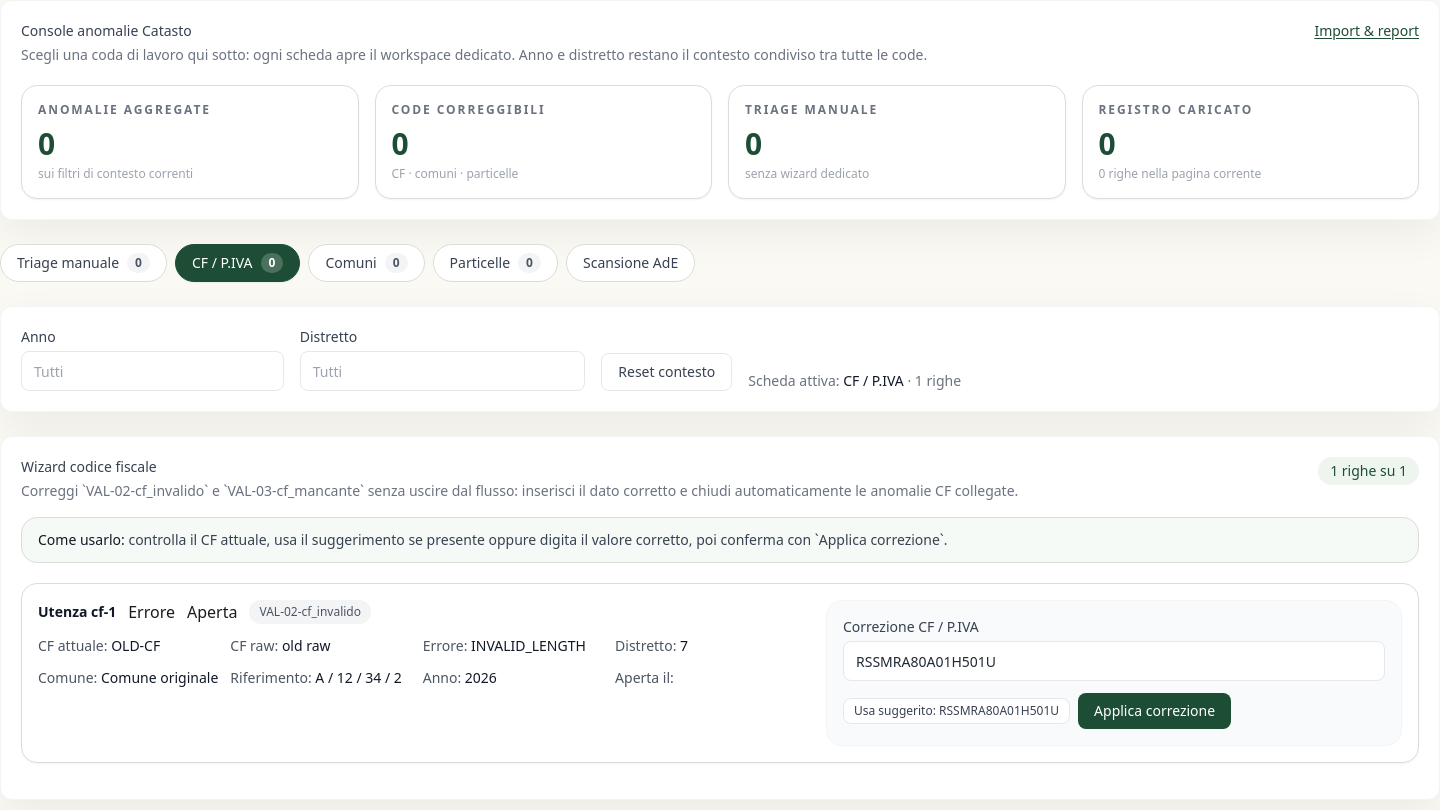
Scenario: R17 original Catasto CF wizard public transitions › releases a failed apply {}, preserves its draft and allows a retry
Expected: the text "Utenza cf-1" is shown, [38, 602, 116, 622]
Expected: the button "Reset contesto" is enabled, [601, 353, 732, 391]
Replace the text in the field labelled "Correzione CF / P.IVA" with "retry me" at (1114, 661), box [843, 641, 1385, 681]
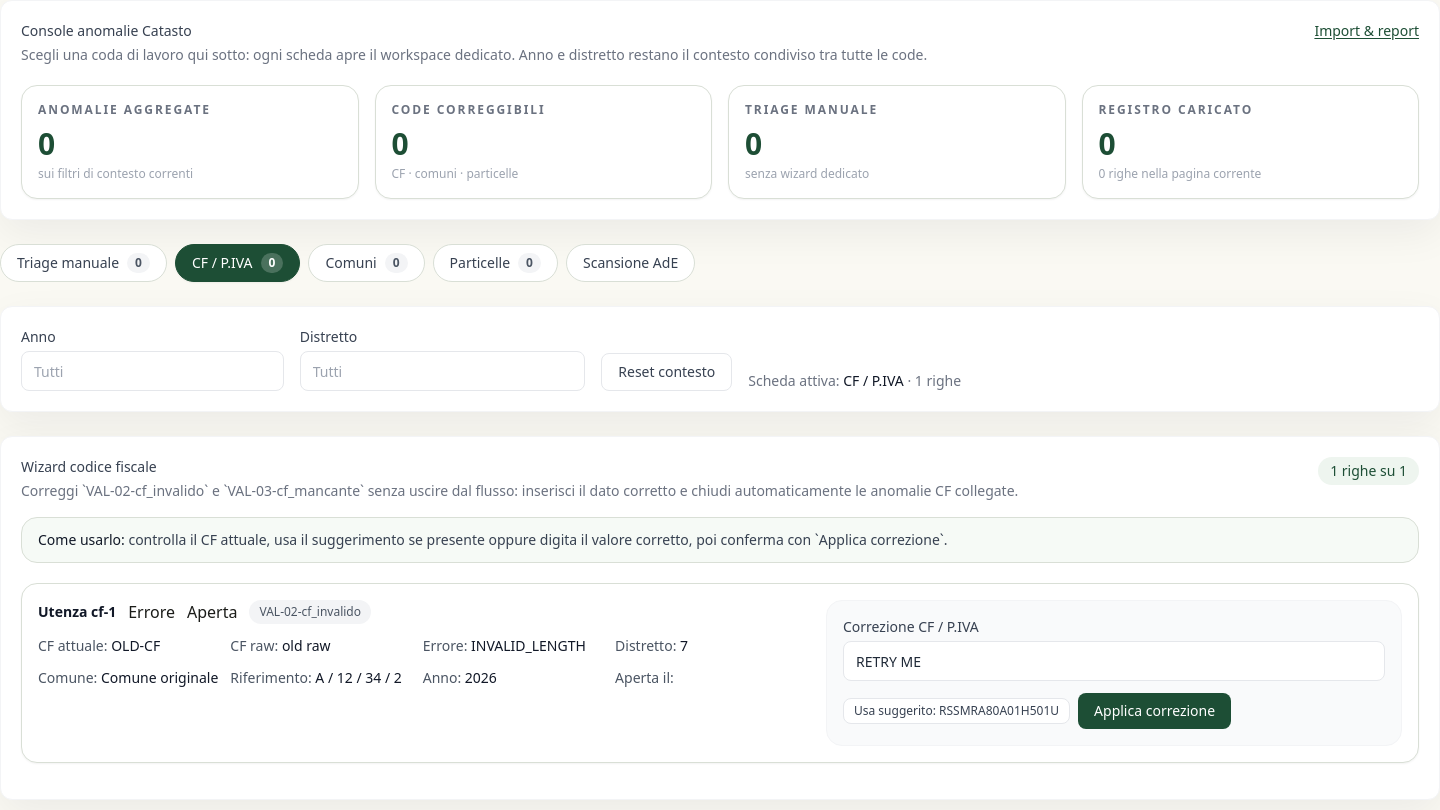
Click the button "Applica correzione".
click(1155, 711)  # box [1078, 693, 1231, 729]
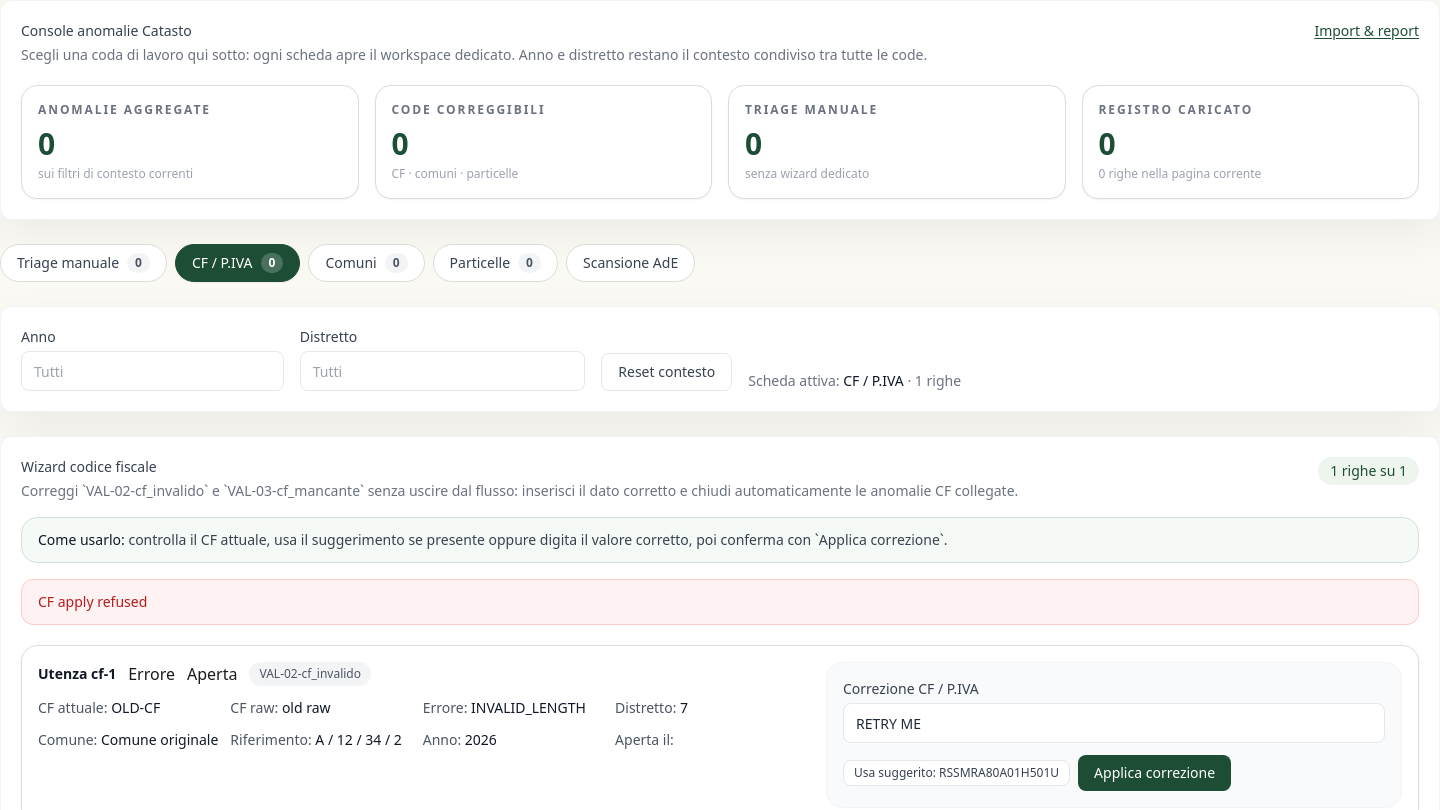
Now the text "CF apply refused" is shown, box [21, 579, 1419, 625]
Click the button "Applica correzione".
click(1155, 773)  # box [1078, 755, 1231, 791]
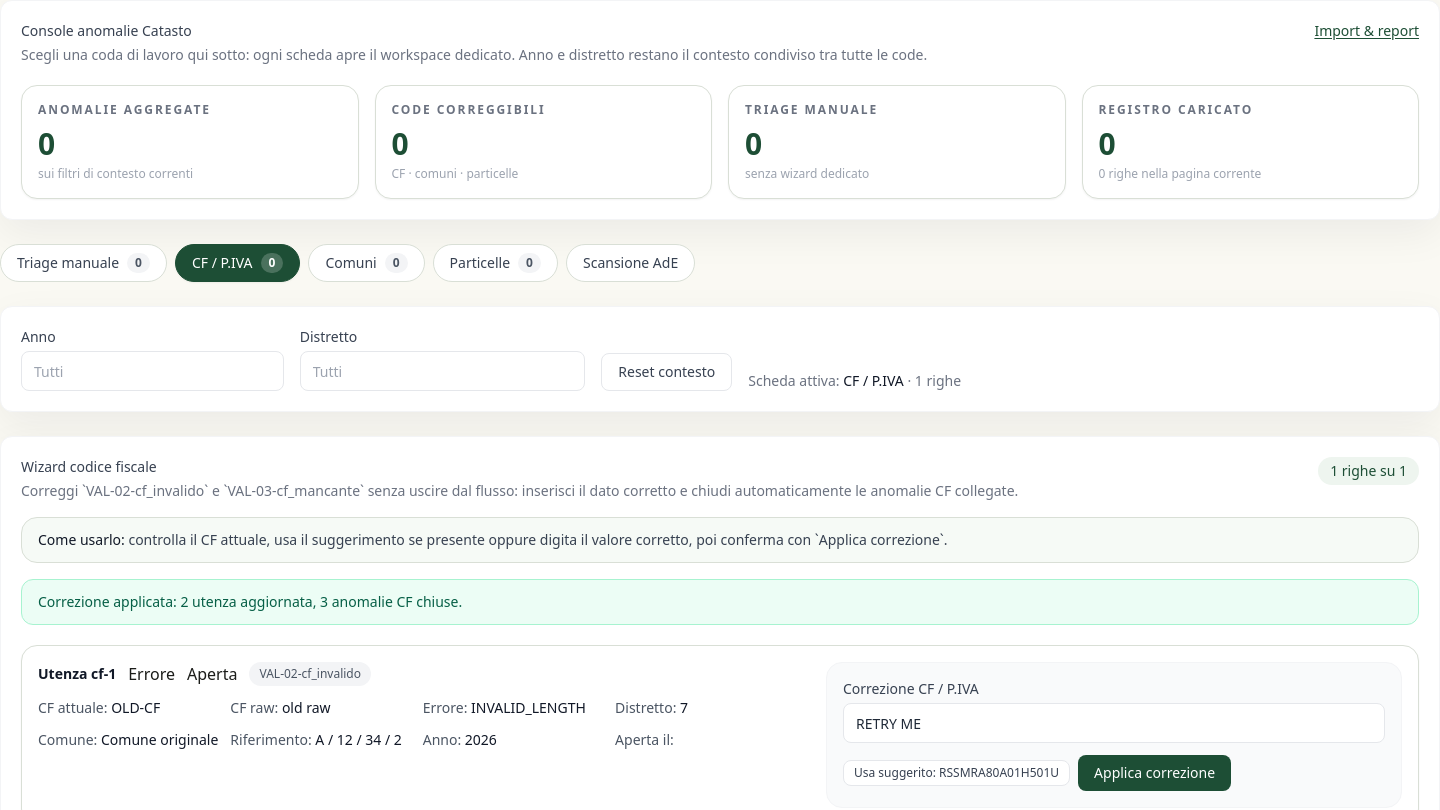
Now the text "Correzione applicata: 2 utenza aggiornata, 3 anomalie CF chiuse." is shown, box [21, 579, 1419, 625]
Now the text "CF apply refused" is gone
